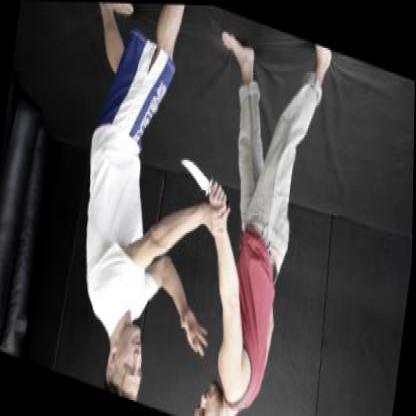knife: (174, 149, 234, 207)
